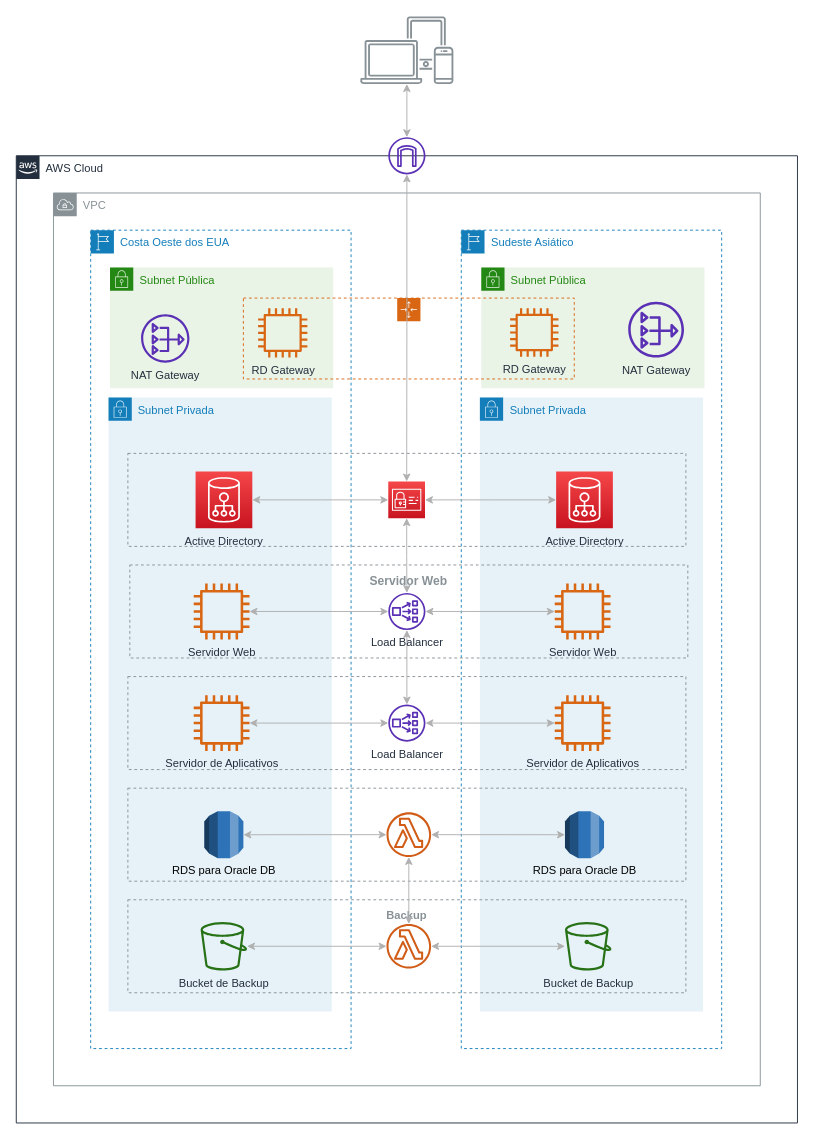
Image size: 814x1139. Some labels were removed from this diagram. The box of each missing label's shape, as (x1, y1, x2, y2) in pixels:
AD: (127, 452, 686, 546)
Auto Scaling group: (242, 297, 574, 379)
Consumidor: (386, 923, 431, 968)
Database: (127, 787, 686, 881)
IAM: (387, 481, 425, 518)
Processador: (386, 812, 431, 857)
Servidor de Apps: (127, 676, 686, 770)
